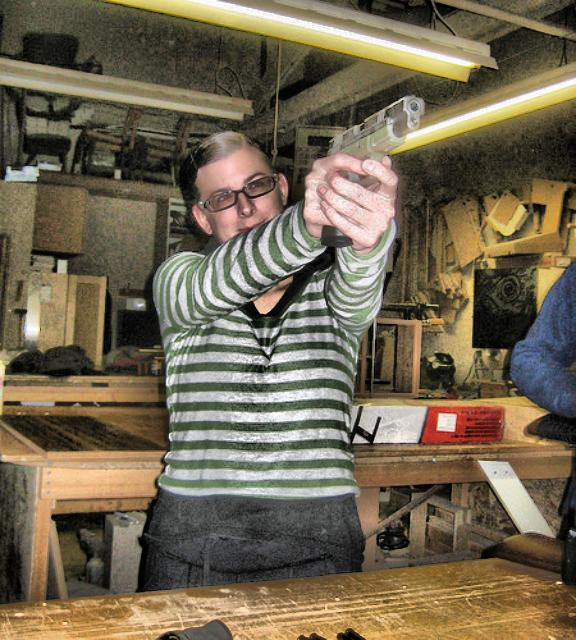pistol: (320, 94, 424, 246)
